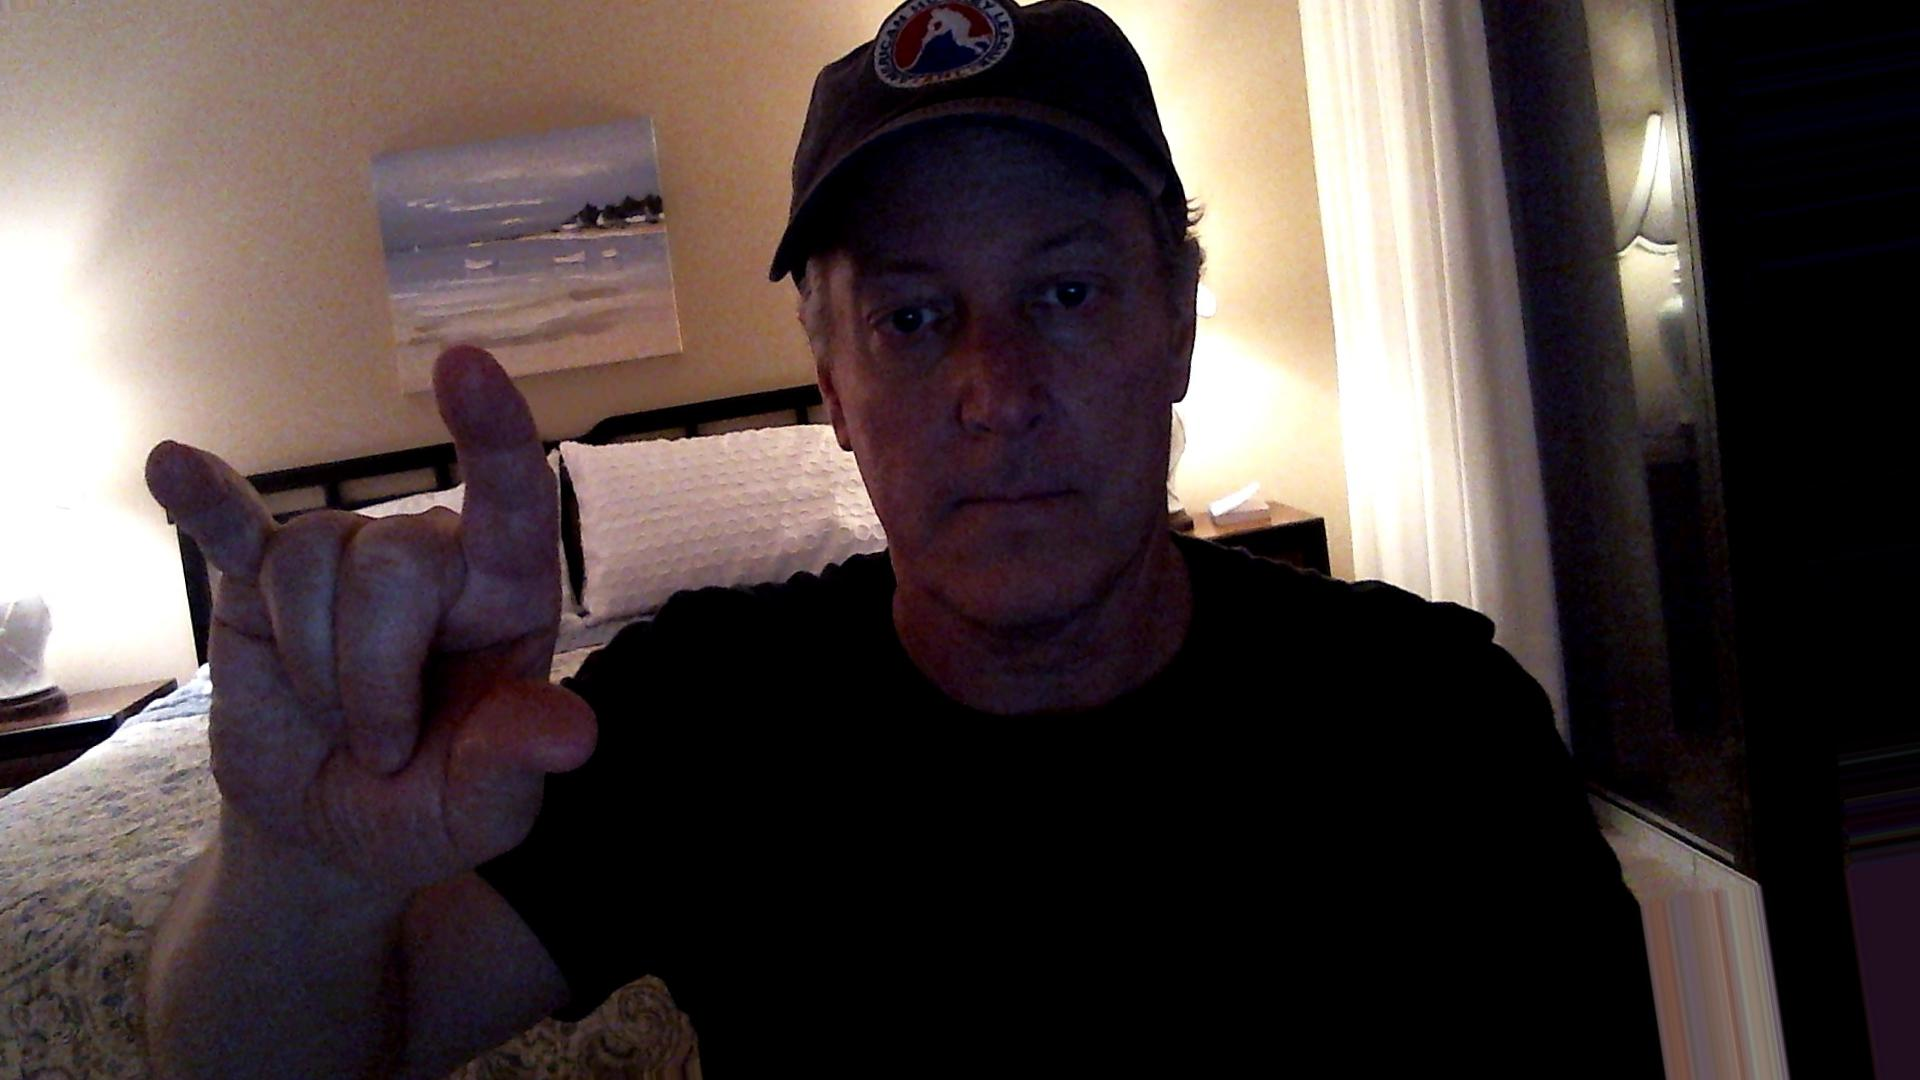I Love You: (131, 332, 622, 882)
